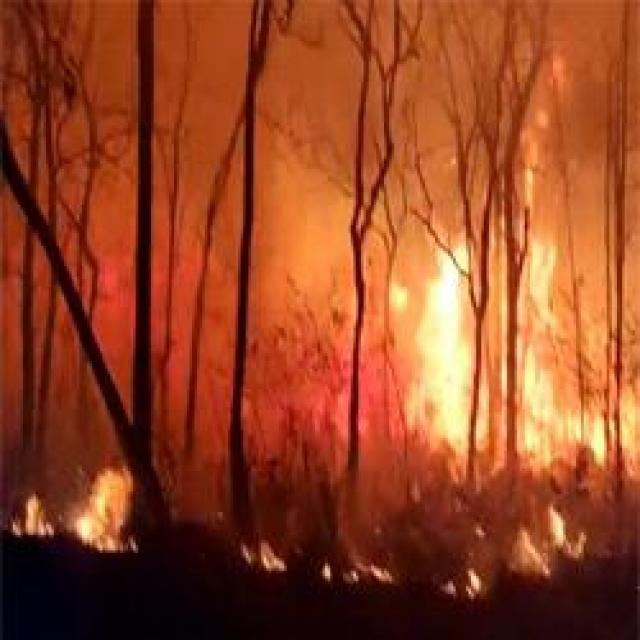fire: (409, 268, 473, 457), (77, 468, 137, 542)
